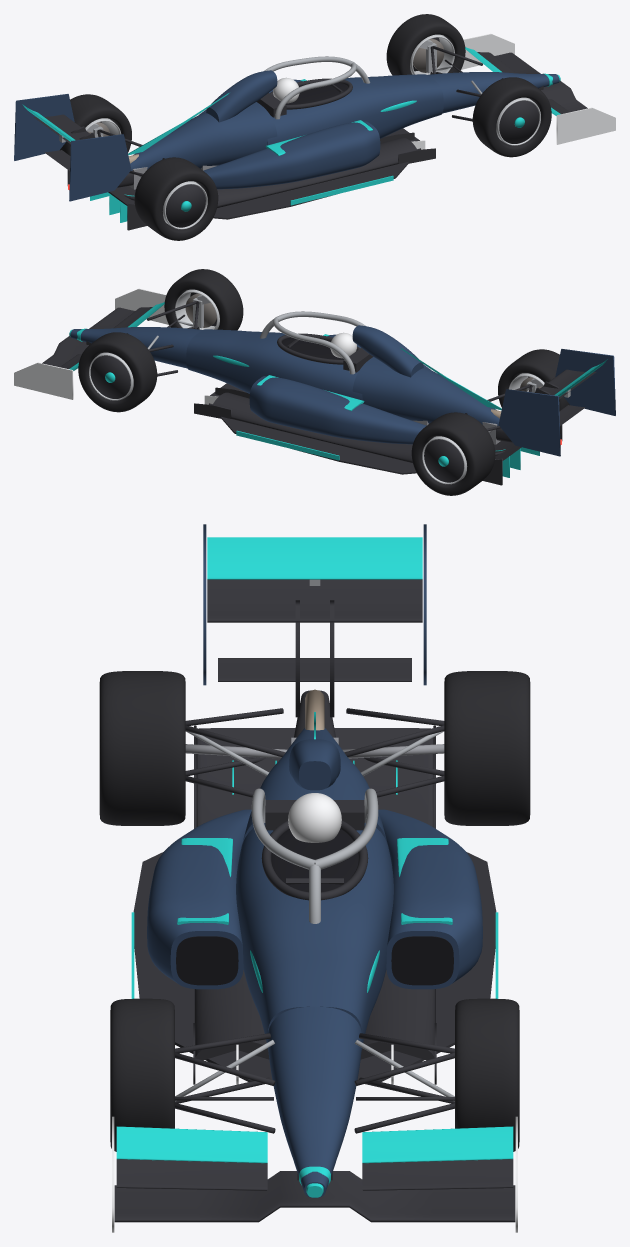
Rendered from apexvision_av1.glb.
The picture shows the model from 3 angles, top to bottom: view 1: azimuth 30°, elevation 25°; view 2: azimuth 150°, elevation 25°; view 3: azimuth 270°, elevation 25°; orthographic projection. The views are drawn at different scales.
Parts seen in each view (by area): view 1: monocoque__tub, sidepods__body_l, power_unit__cover, rear_tyres__tyre_l, front_tyres__tyre_l, rear_wing__endplate_l, rear_wing__endplate_r, floor__plate, front_tyres__tyre_r, venturi_tunnels__tunnel_l, nose_cone__shell, power_unit__airbox (+22 smaller); view 2: monocoque__tub, sidepods__body_r, power_unit__cover, rear_tyres__tyre_r, front_tyres__tyre_r, rear_wing__endplate_r, rear_wing__endplate_l, floor__plate, front_tyres__tyre_l, venturi_tunnels__tunnel_r, nose_cone__shell, power_unit__airbox (+22 smaller); view 3: monocoque__tub, rear_tyres__tyre_l, rear_tyres__tyre_r, front_wing__mainplane, nose_cone__shell, sidepods__body_l, sidepods__body_r, floor__plate, diffuser__ramp, rear_wing__mainplane, drs__flap, front_tyres__tyre_l (+20 smaller).
Part boxes in pixels (bbox=[...]): monocoque__tub: bbox=[267, 74, 443, 145]; sidepods__body_l: bbox=[203, 121, 380, 189]; power_unit__cover: bbox=[130, 102, 277, 170]; rear_tyres__tyre_l: bbox=[134, 157, 218, 240]; front_tyres__tyre_l: bbox=[472, 77, 551, 157]; rear_wing__endplate_l: bbox=[69, 134, 131, 201]; rear_wing__endplate_r: bbox=[14, 94, 74, 160]; floor__plate: bbox=[213, 128, 420, 219]; front_tyres__tyre_r: bbox=[386, 14, 465, 75]; venturi_tunnels__tunnel_l: bbox=[217, 137, 417, 207]; nose_cone__shell: bbox=[427, 72, 559, 113]; power_unit__airbox: bbox=[206, 70, 277, 122]; monocoque__tub: bbox=[186, 329, 362, 400]; sidepods__body_r: bbox=[249, 376, 426, 444]; power_unit__cover: bbox=[352, 357, 499, 425]; rear_tyres__tyre_r: bbox=[411, 412, 495, 495]; front_tyres__tyre_r: bbox=[78, 332, 157, 412]; rear_wing__endplate_r: bbox=[498, 389, 560, 456]; rear_wing__endplate_l: bbox=[555, 349, 615, 415]; floor__plate: bbox=[209, 383, 416, 474]; front_tyres__tyre_l: bbox=[164, 269, 243, 330]; venturi_tunnels__tunnel_r: bbox=[212, 392, 412, 462]; nose_cone__shell: bbox=[70, 327, 202, 368]; power_unit__airbox: bbox=[352, 325, 423, 377]; monocoque__tub: bbox=[236, 823, 393, 1049]; rear_tyres__tyre_l: bbox=[99, 671, 185, 825]; rear_tyres__tyre_r: bbox=[444, 671, 530, 825]; front_wing__mainplane: bbox=[114, 1171, 515, 1222]; nose_cone__shell: bbox=[267, 1006, 362, 1197]; sidepods__body_l: bbox=[147, 809, 251, 989]; sidepods__body_r: bbox=[378, 809, 482, 989]; floor__plate: bbox=[133, 852, 496, 1081]; diffuser__ramp: bbox=[196, 728, 433, 826]; rear_wing__mainplane: bbox=[207, 579, 422, 622]; drs__flap: bbox=[207, 537, 422, 579]; front_tyres__tyre_l: bbox=[110, 998, 174, 1151].
Bounding box in the file's own units: 5.61 × 1.06 × 2.
